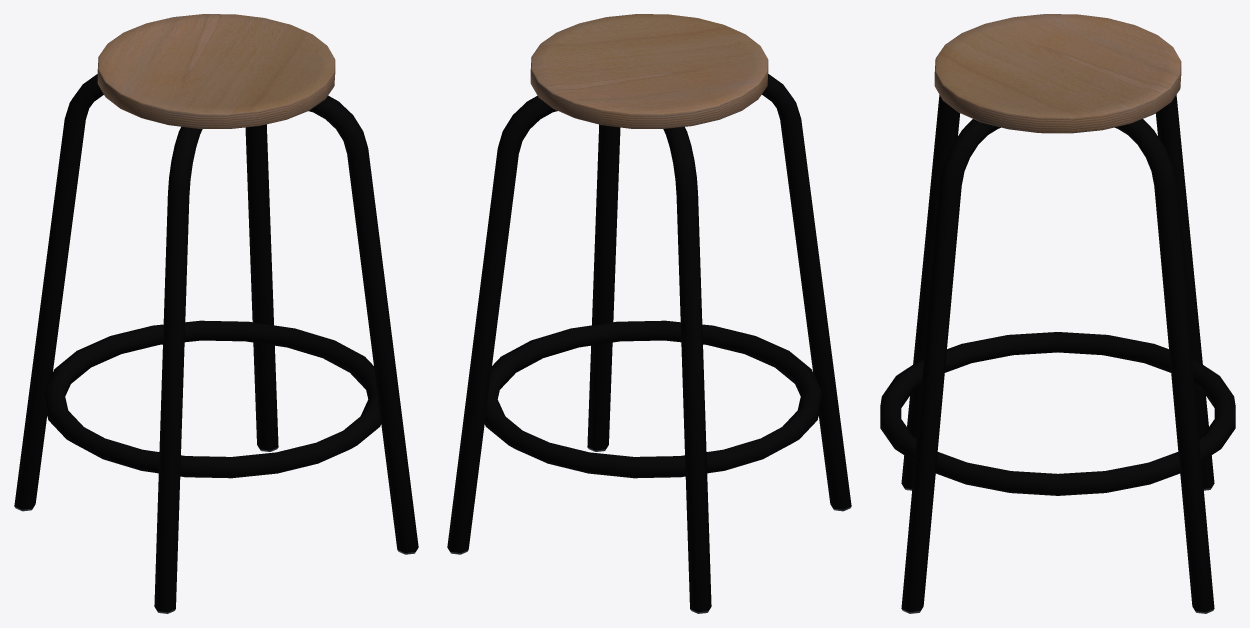
The model's file is banco-corredor-65.glb.
3 renders of one model, left to right at view 1: azimuth 30°, elevation 25°; view 2: azimuth 150°, elevation 25°; view 3: azimuth 270°, elevation 25°, orthographic. The views are drawn at different scales.
Visible parts, largest first — view 1: Final; view 2: Final; view 3: Final.
Boxes of the visible parts, <box> form: Final: <box>14,14,418,613</box>; Final: <box>447,14,851,613</box>; Final: <box>880,14,1235,613</box>.
Bounding box in the file's own units: 0.4664 × 0.6919 × 0.4616.
1 material, 1 textured.
